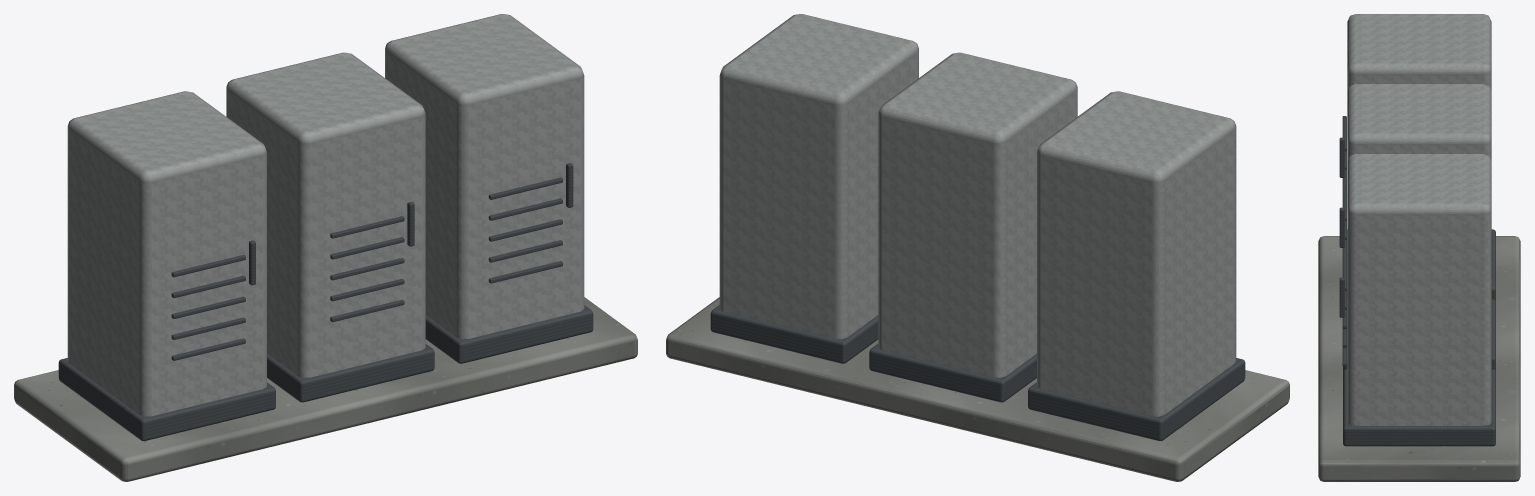
The model's file is service-battery-cabinet.lod0.gltf.
The picture shows the model from 3 angles, left to right: view 1: azimuth 30°, elevation 25°; view 2: azimuth 150°, elevation 25°; view 3: azimuth 270°, elevation 25°; orthographic projection. The views are drawn at different scales.
Parts seen in each view (by area): view 1: service-battery-cabinet; view 2: service-battery-cabinet; view 3: service-battery-cabinet.
Boxes of the visible parts, x1,y1,x2,y2 form: service-battery-cabinet: [14, 14, 637, 481]; service-battery-cabinet: [666, 14, 1289, 481]; service-battery-cabinet: [1318, 14, 1520, 481].
Bounding box in the file's own units: 4.4 × 2.36 × 1.65.
Materials: 3 (3 with a texture image).
